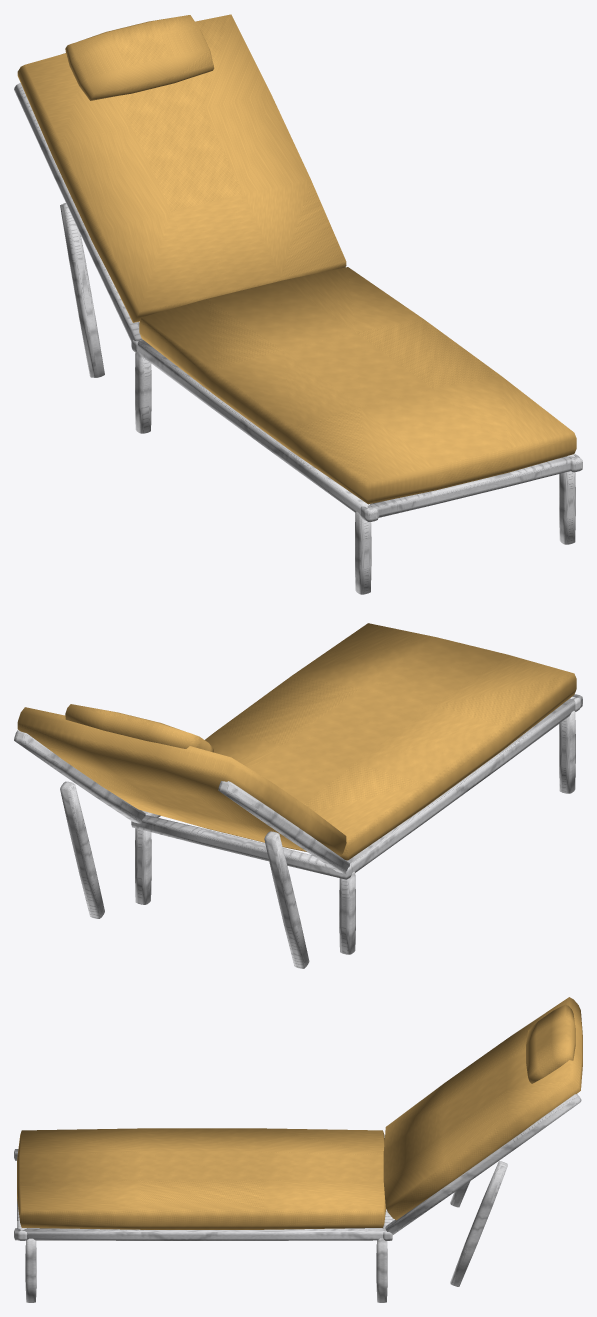
File: lounge_chair.glb
The picture shows the model from 3 angles, top to bottom: view 1: azimuth 30°, elevation 25°; view 2: azimuth 150°, elevation 25°; view 3: azimuth 270°, elevation 25°; orthographic projection. The views are drawn at different scales.
Visible parts, largest first — view 1: lounge_chair_body; view 2: lounge_chair_body; view 3: lounge_chair_body.
Part boxes in pixels (bbox=[...]): lounge_chair_body: bbox=[14, 14, 582, 594]; lounge_chair_body: bbox=[14, 623, 582, 968]; lounge_chair_body: bbox=[14, 997, 582, 1302].
Size of the model in its own units: 0.7 by 0.913 by 1.99.
2 materials, 2 textured.
